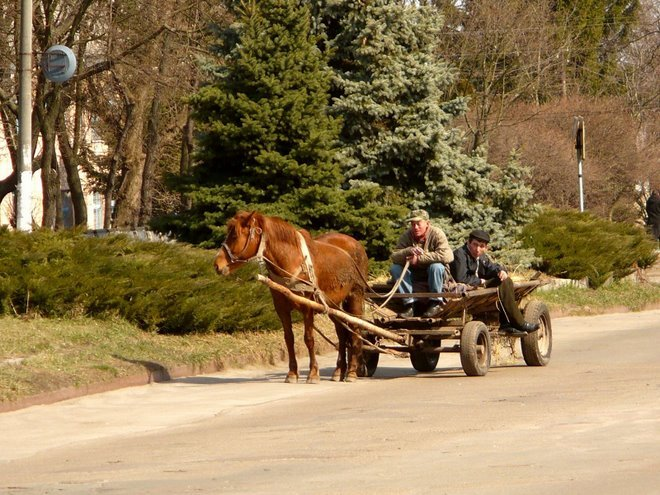horse: (213, 210, 374, 384)
